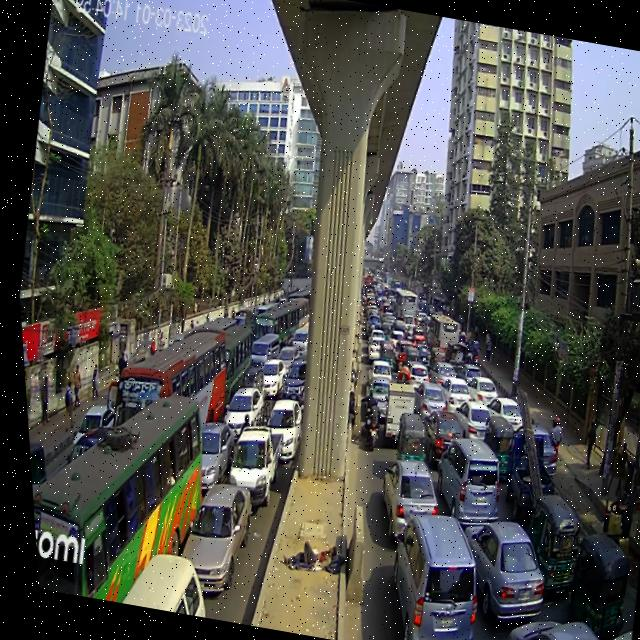cng: (507, 498, 581, 598), (554, 540, 628, 637), (469, 408, 517, 484), (382, 412, 425, 474), (370, 336, 394, 376)
